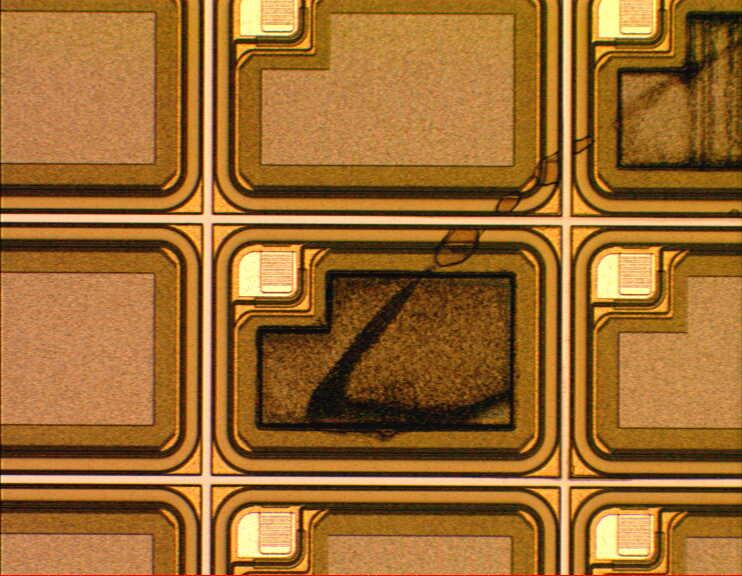SEZ BURNT: (256, 11, 742, 444)
